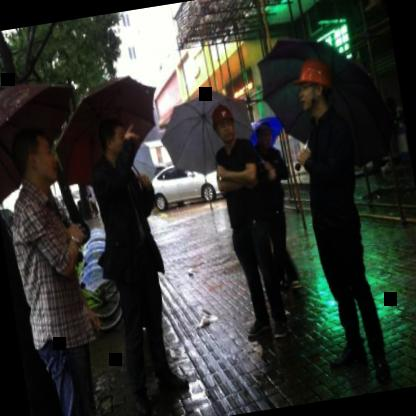head: (6, 120, 64, 201), (96, 114, 134, 162), (251, 120, 278, 157)
helmet: (290, 56, 338, 117), (205, 96, 241, 149)
